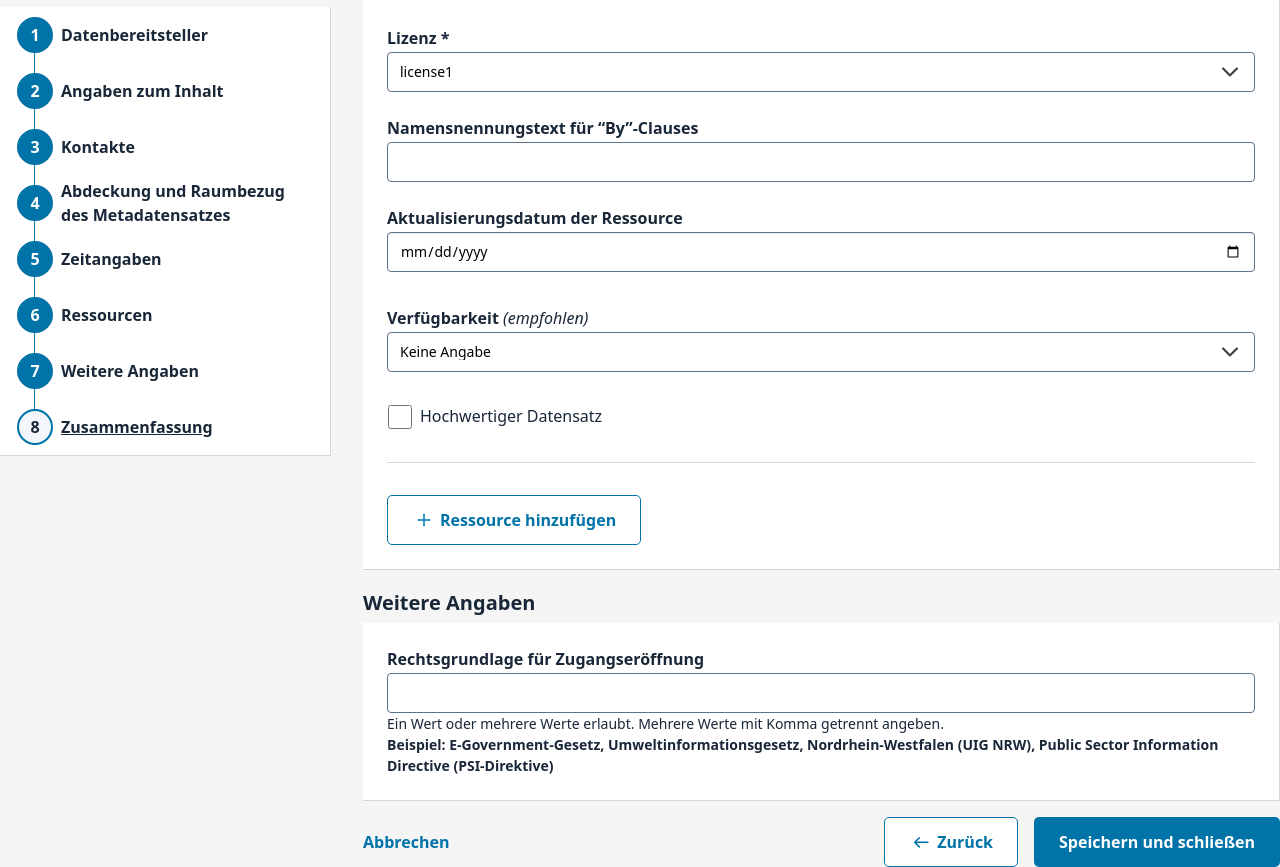
MetadataForm › should show a general error after a failed request
(page scrolled)
Step 1. Click the button "Speichern und schließen" → (1157, 842), box [1034,817,1279,866]
(page scrolled)
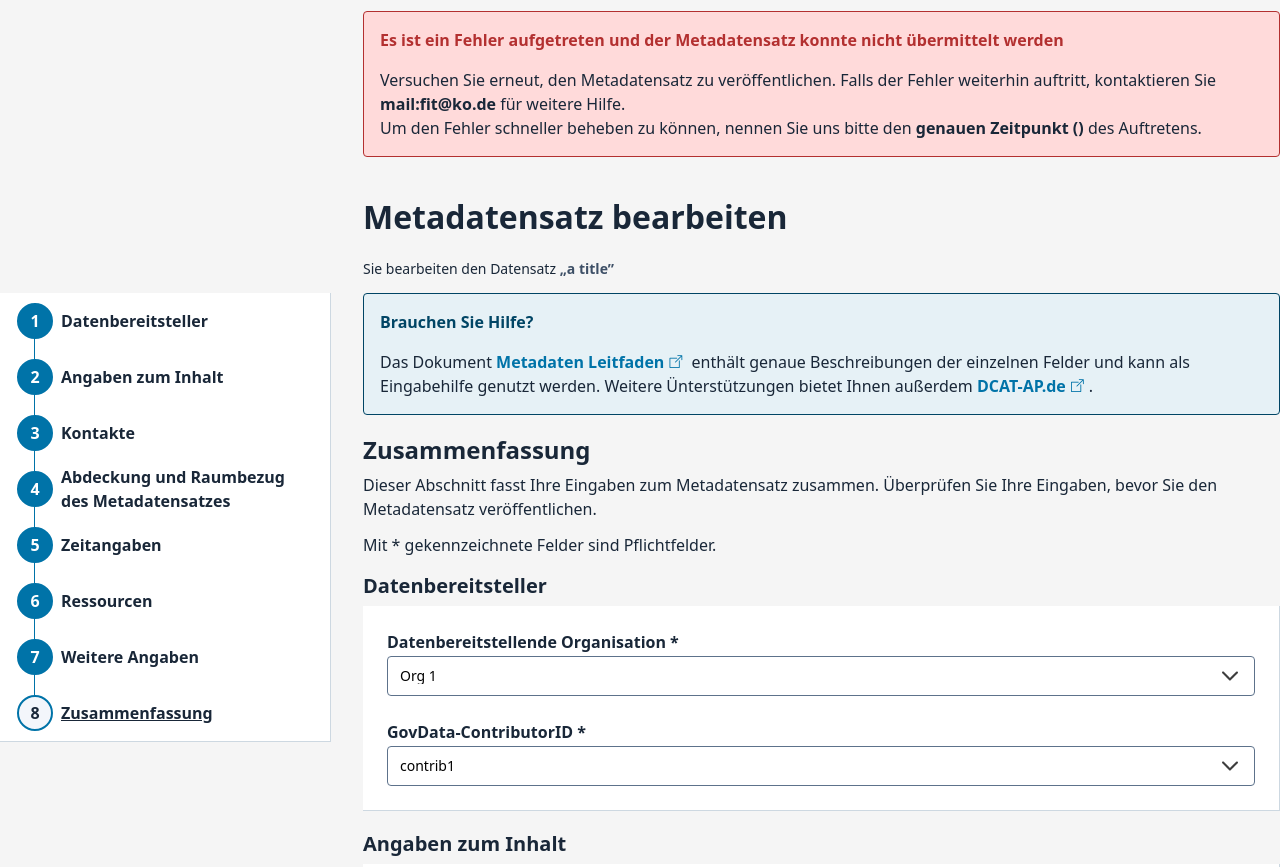
expect the text "Es ist ein Fehler aufgetreten" is shown: met, box [380,29,1064,51]
